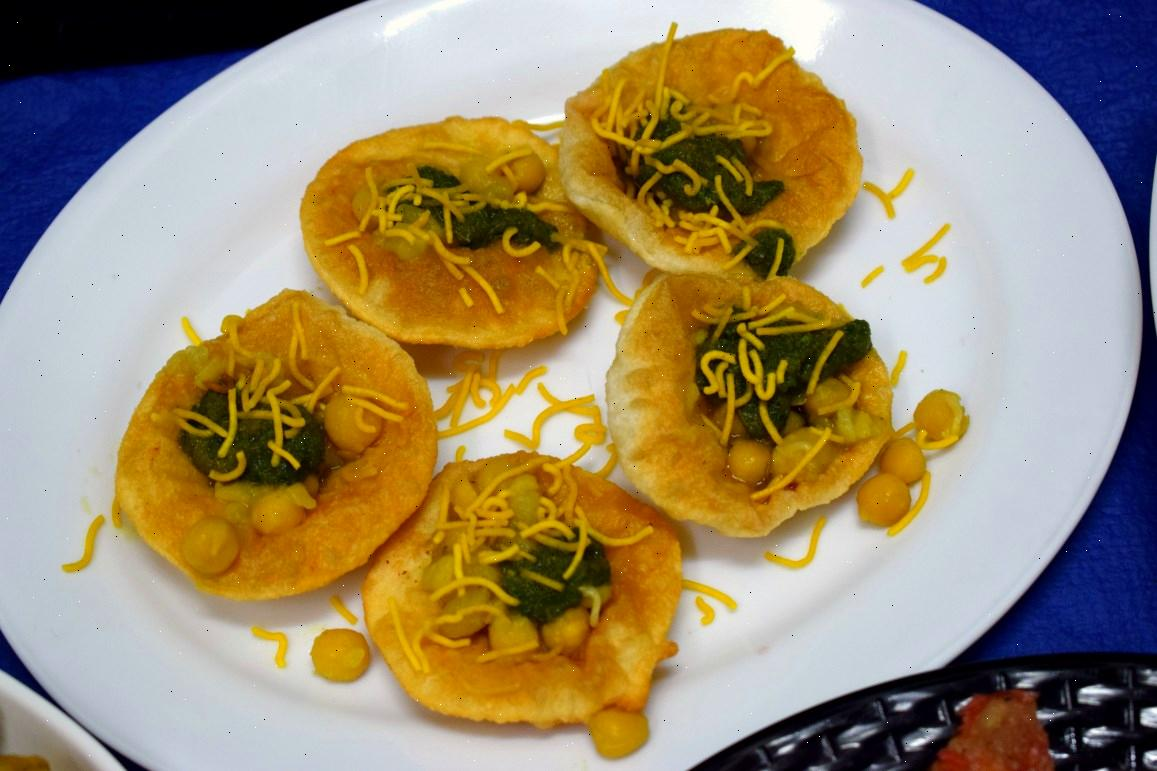puri: (112, 36, 1024, 726)
